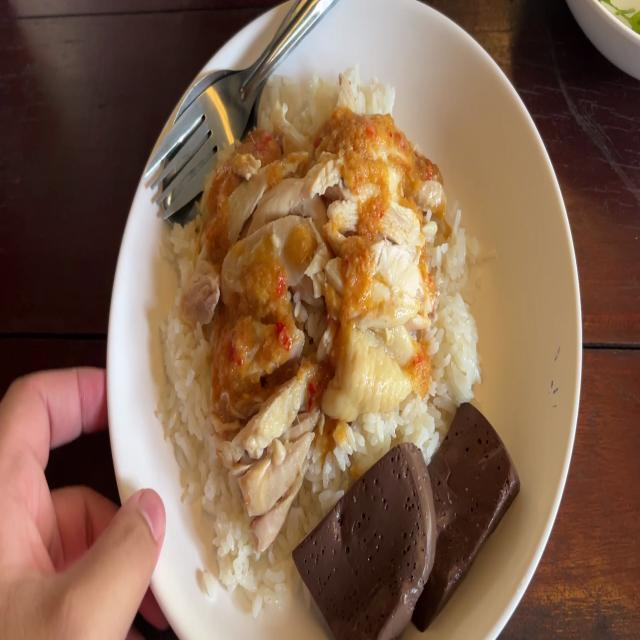boiled_chicken: (223, 132, 421, 432)
boiled_chicken_blood_jelly: (296, 453, 432, 630), (417, 410, 512, 604)
chicken_rice: (170, 80, 514, 638)
